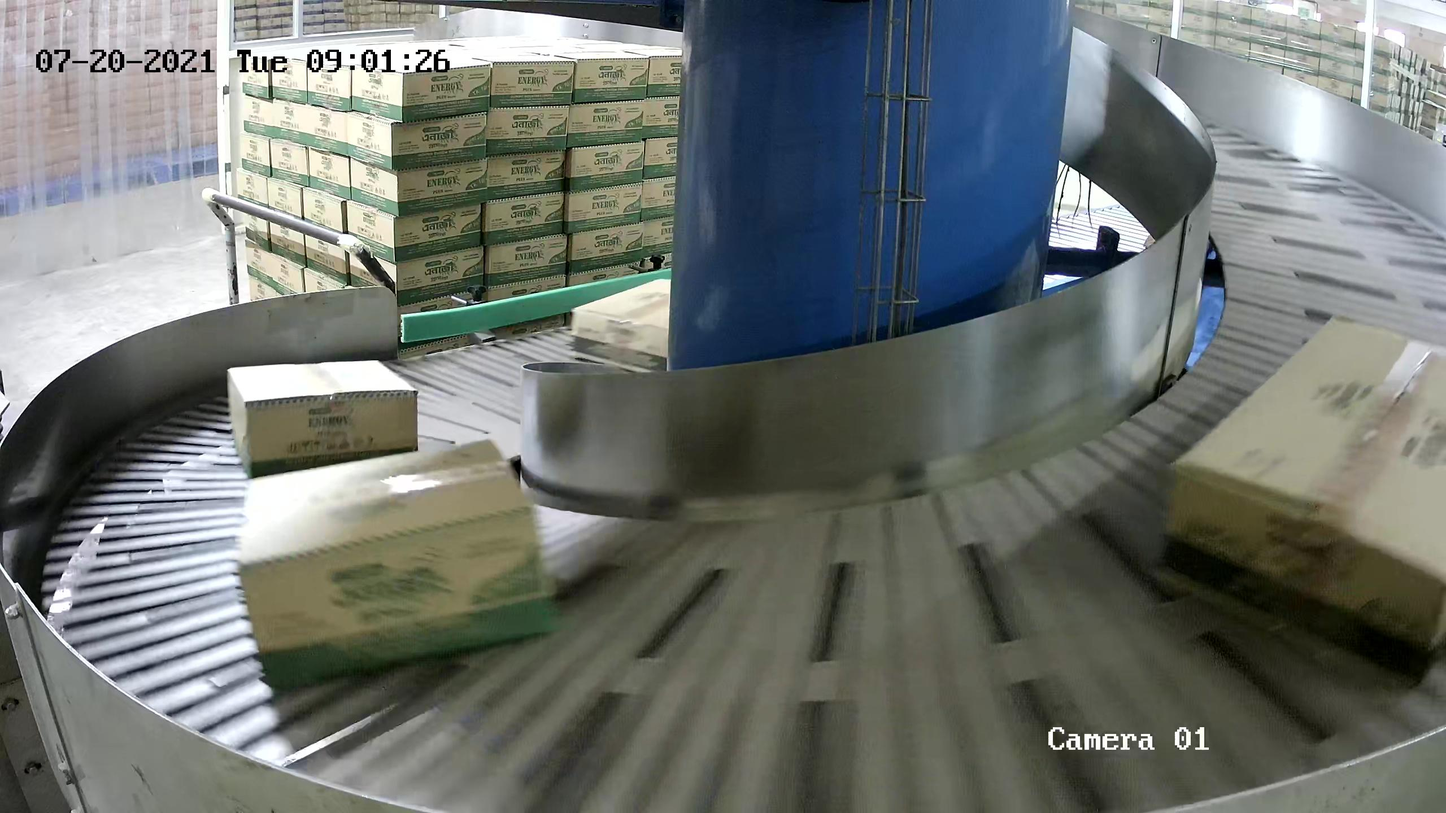Box: (1163, 313, 1446, 690), (236, 436, 559, 688), (226, 358, 419, 481), (570, 277, 671, 374)
